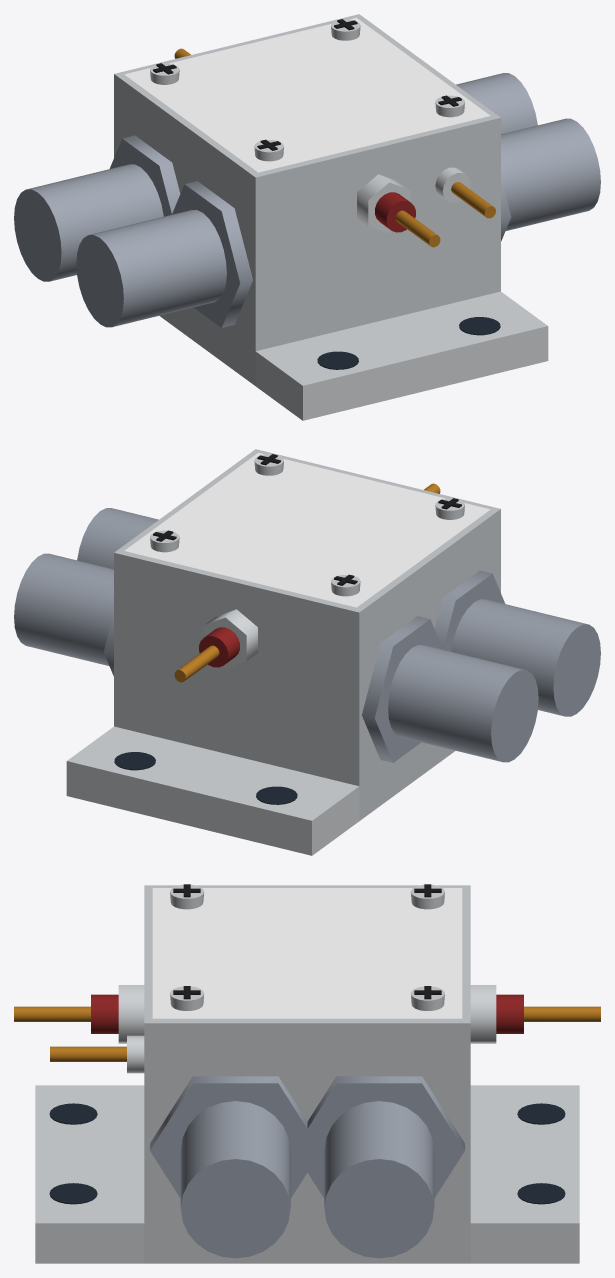
The model's file is minicircuits_zyswa_2_50dr.glb.
3 renders of one model, top to bottom at view 1: azimuth 30°, elevation 25°; view 2: azimuth 150°, elevation 25°; view 3: azimuth 270°, elevation 25°, orthographic. The views are drawn at different scales.
Bounding box in the file's own units: 37.05 × 16.42 × 34.25.
